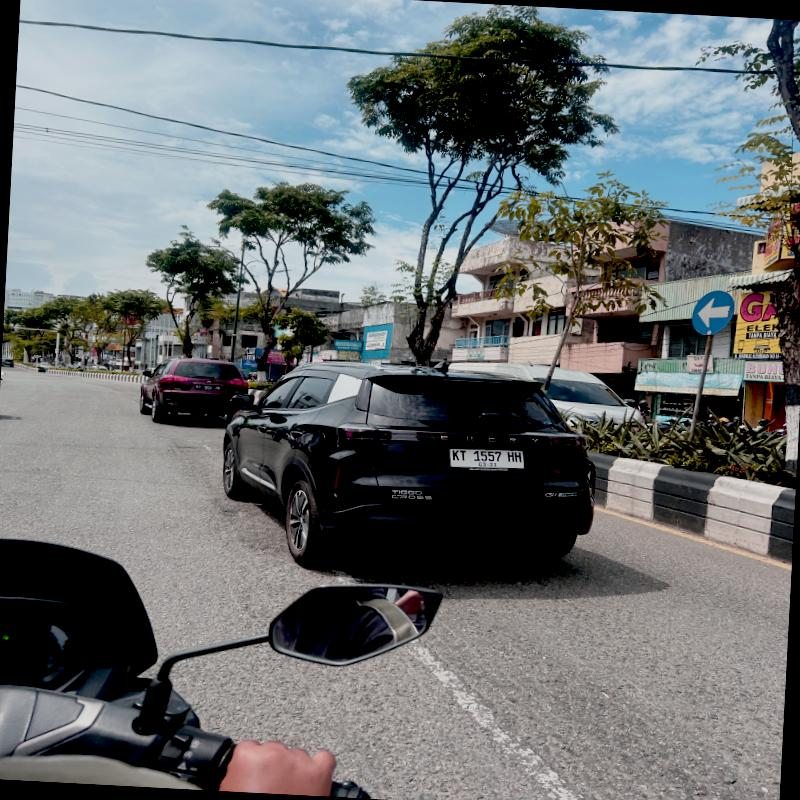license plate on a car: (450, 448, 525, 468), (196, 384, 220, 391)
